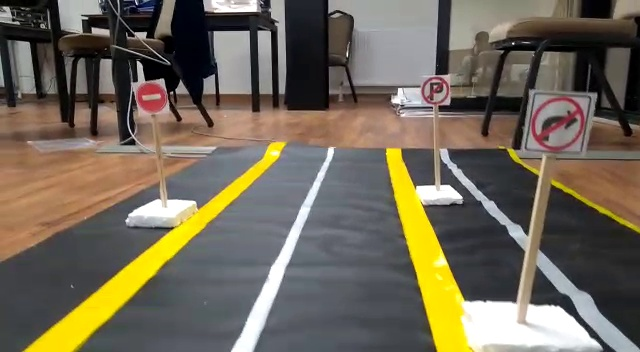girisi_olmayan_yol: (135, 80, 170, 112)
park_yapilmaz: (422, 72, 449, 107)
saga_donulmez: (527, 88, 586, 153)
